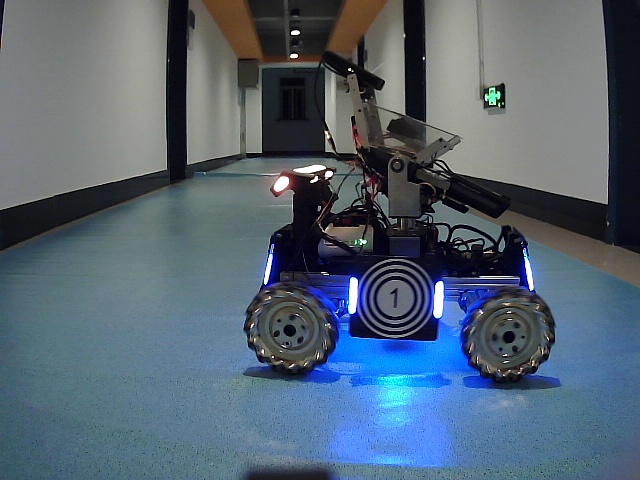lamp: (521, 247, 537, 295), (433, 280, 445, 320), (348, 277, 358, 315), (266, 244, 272, 288)
pair: (349, 276, 444, 319)
